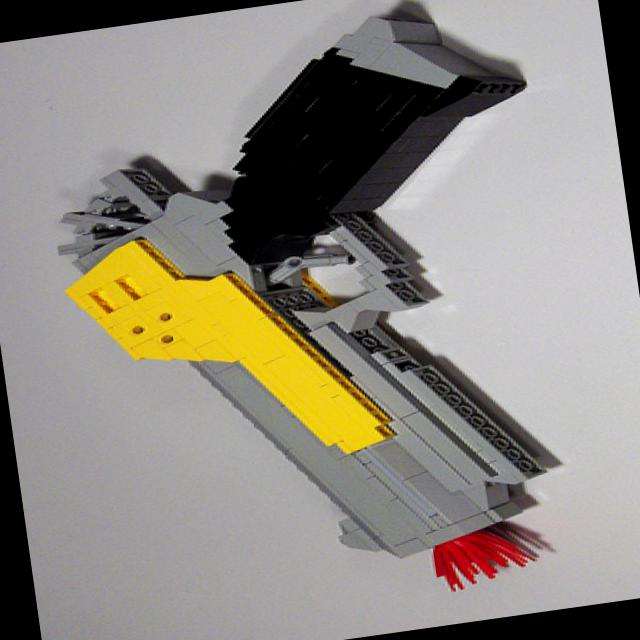handgun: (18, 0, 610, 638)
